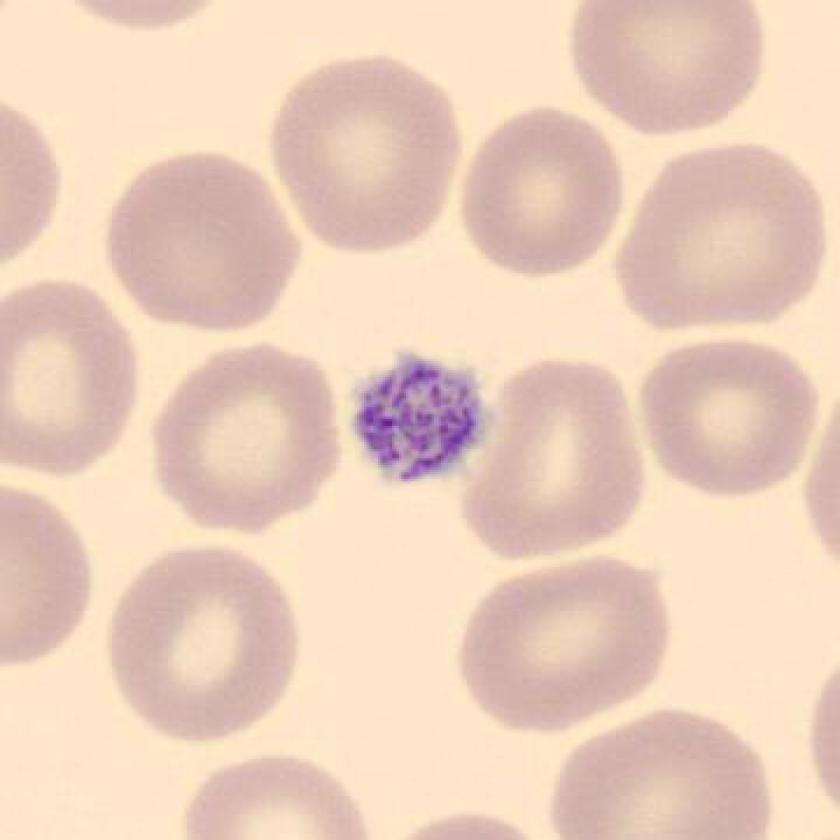platelets: (349, 346, 500, 489)
